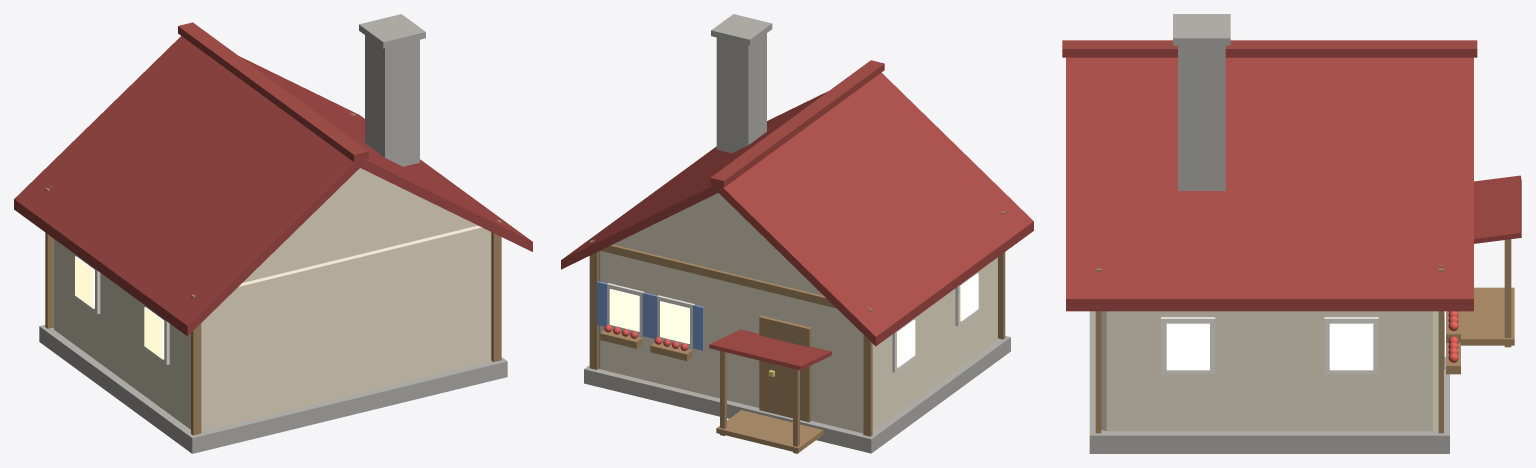
Rendered from world_farmhouse.glb.
The picture shows the model from 3 angles, left to right: view 1: azimuth 30°, elevation 25°; view 2: azimuth 150°, elevation 25°; view 3: azimuth 270°, elevation 25°; orthographic projection. The views are drawn at different scales.
Visible parts, largest first — view 1: world_farmhouse; view 2: world_farmhouse; view 3: world_farmhouse.
Boxes of the visible parts, left/top/right/bottom form: world_farmhouse: left=14, top=14, right=532, bottom=453; world_farmhouse: left=561, top=14, right=1033, bottom=453; world_farmhouse: left=1062, top=14, right=1521, bottom=453.
Bounding box in the file's own units: 6.9 × 6.31 × 6.75.
